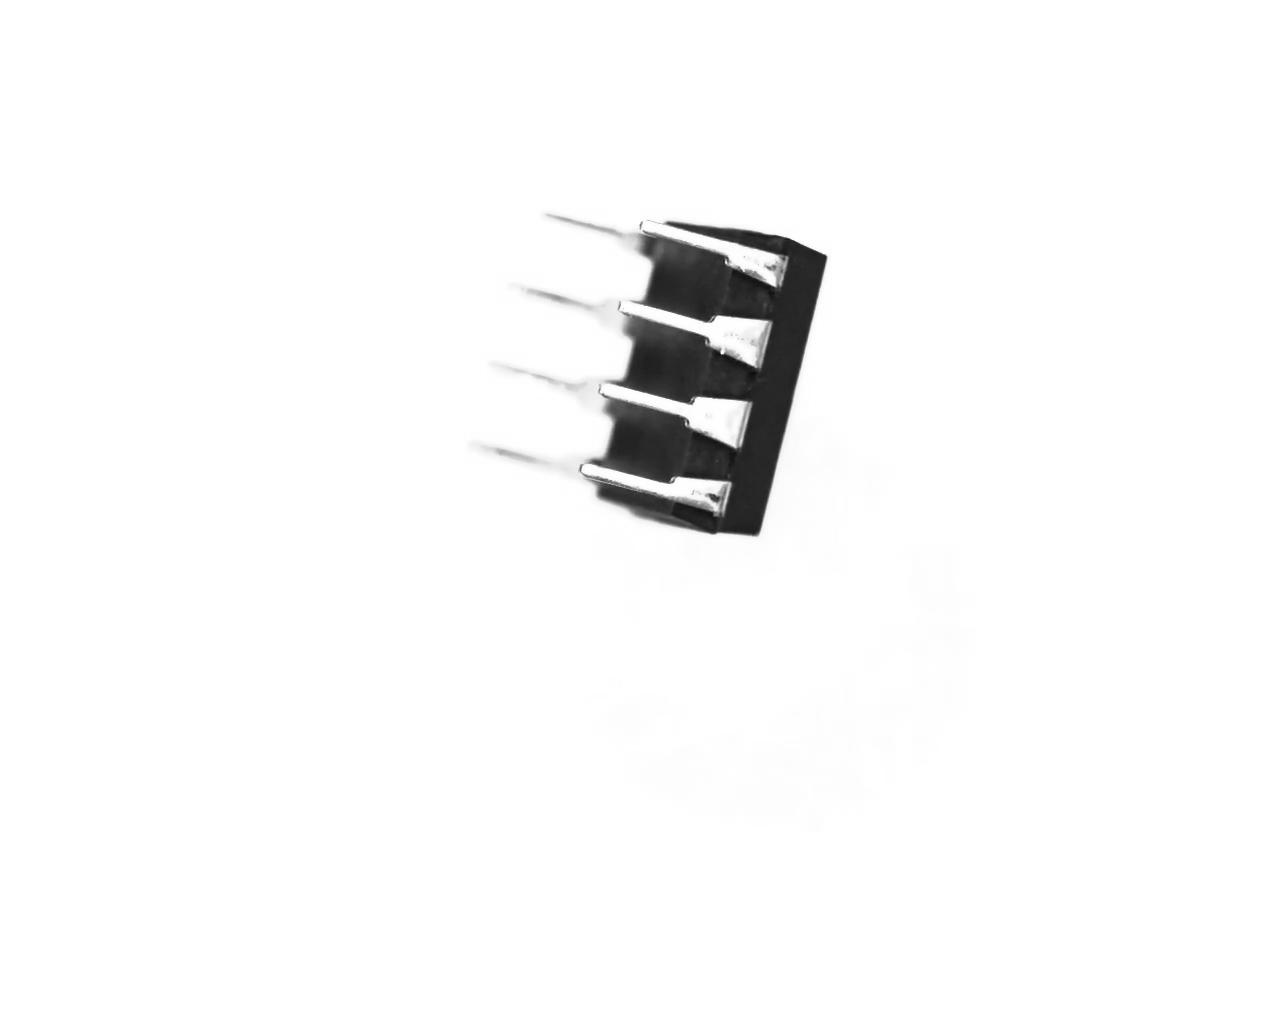Leg: (633, 209, 796, 295), (599, 370, 750, 452), (614, 295, 771, 374), (482, 347, 616, 420), (580, 464, 727, 526), (506, 269, 630, 335), (459, 425, 596, 484), (546, 199, 656, 264)
